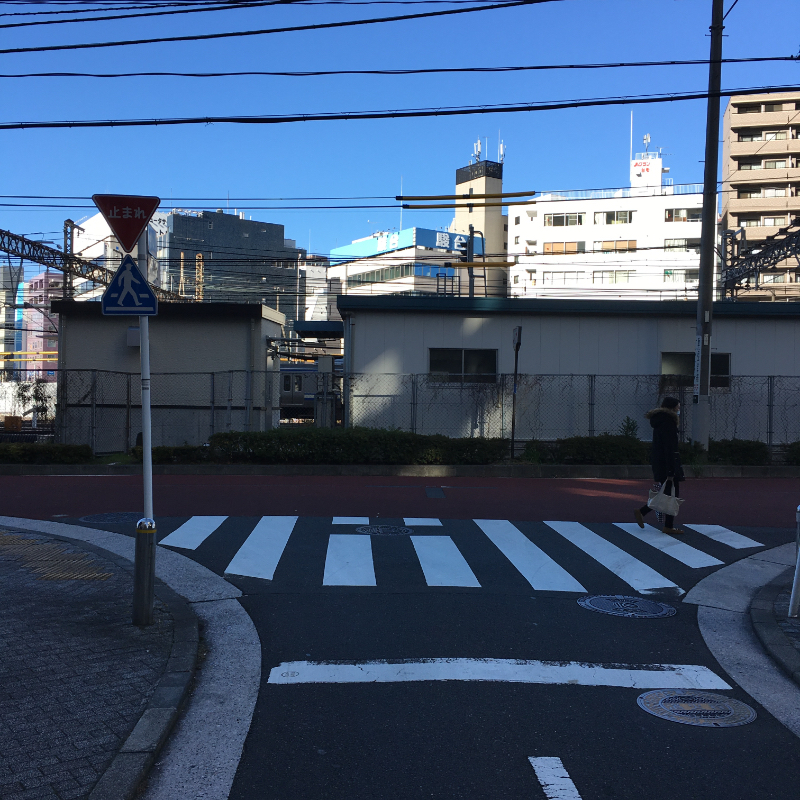STOP: (90, 189, 161, 254)
